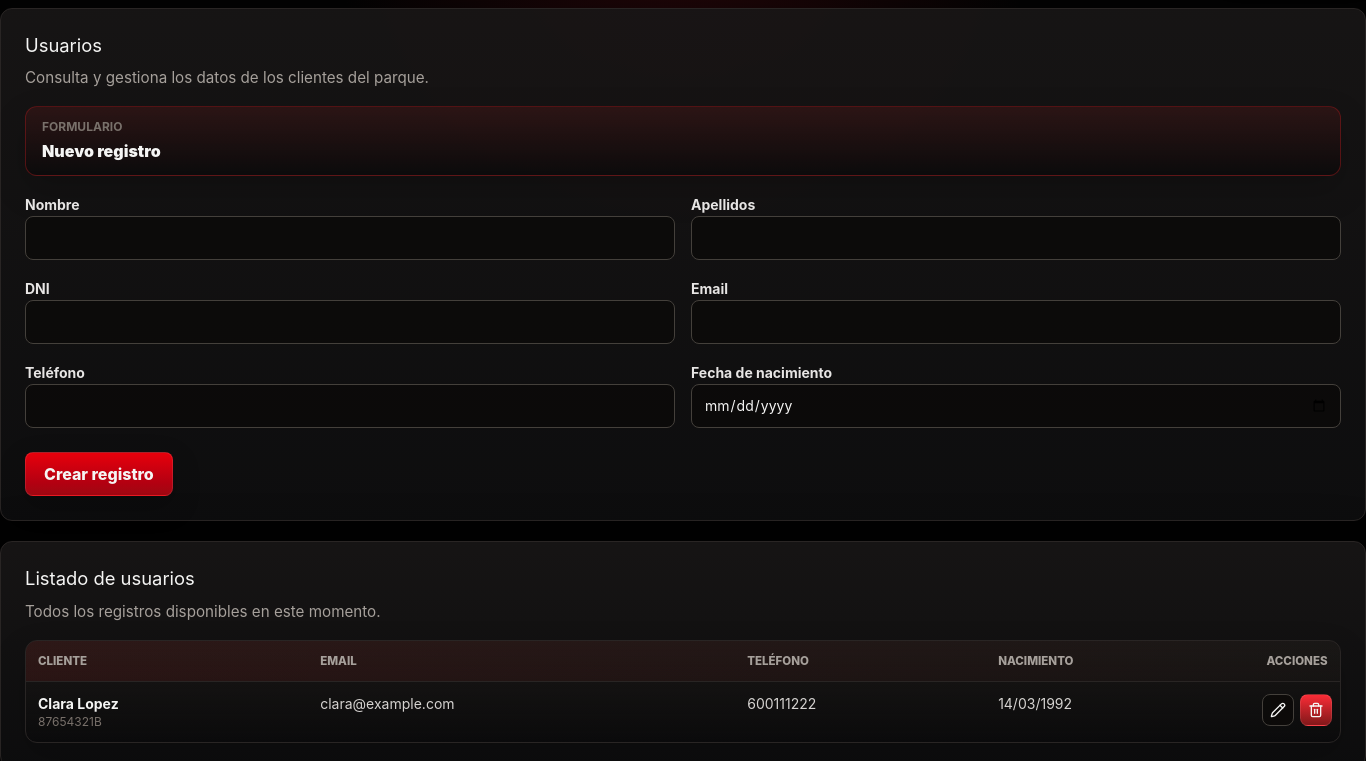
Test: DashboardPage › shows the translated delete error when the entity removal fails
The width and height of the screenshot is (1366, 761).
(page scrolled)
Click the button named "Eliminar registro": x=1316, y=710 1300,694 -> 1332,726
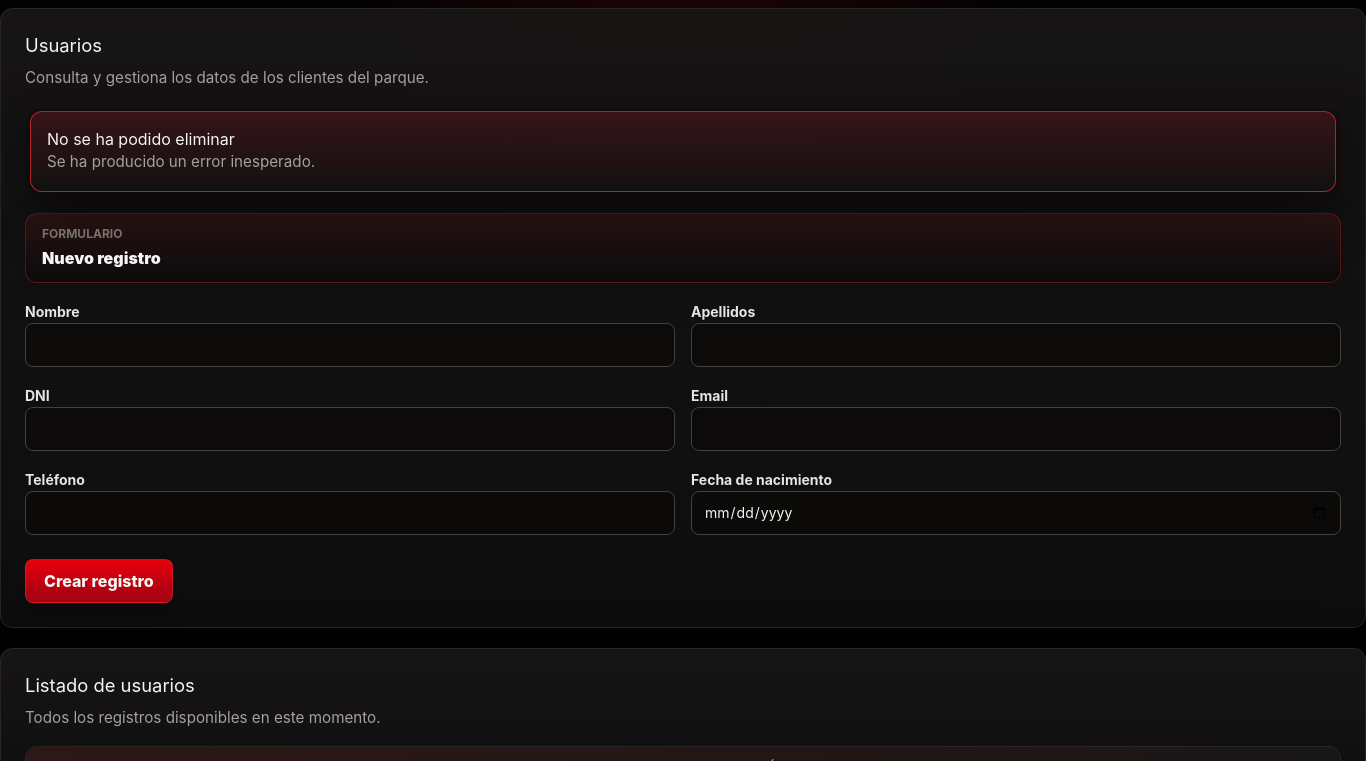
Check: the text "Se ha producido un error inesperado." is shown, box 47,152 -> 315,171
